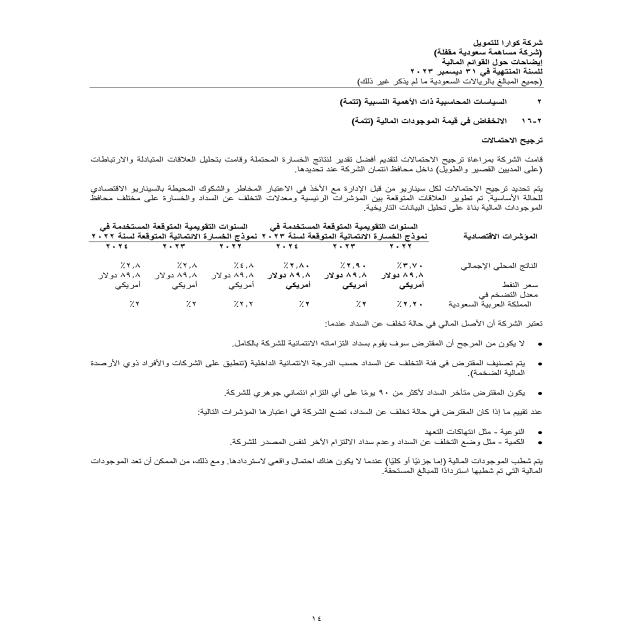notes: (391, 58, 550, 67)
table: (61, 217, 558, 314)
